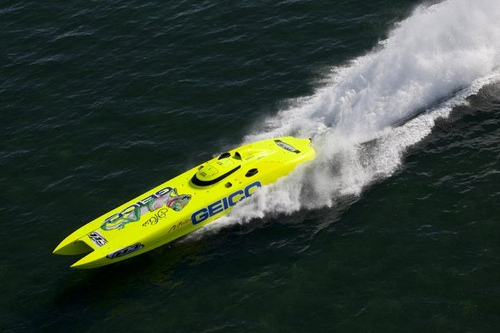Geico: (193, 186, 269, 224)
